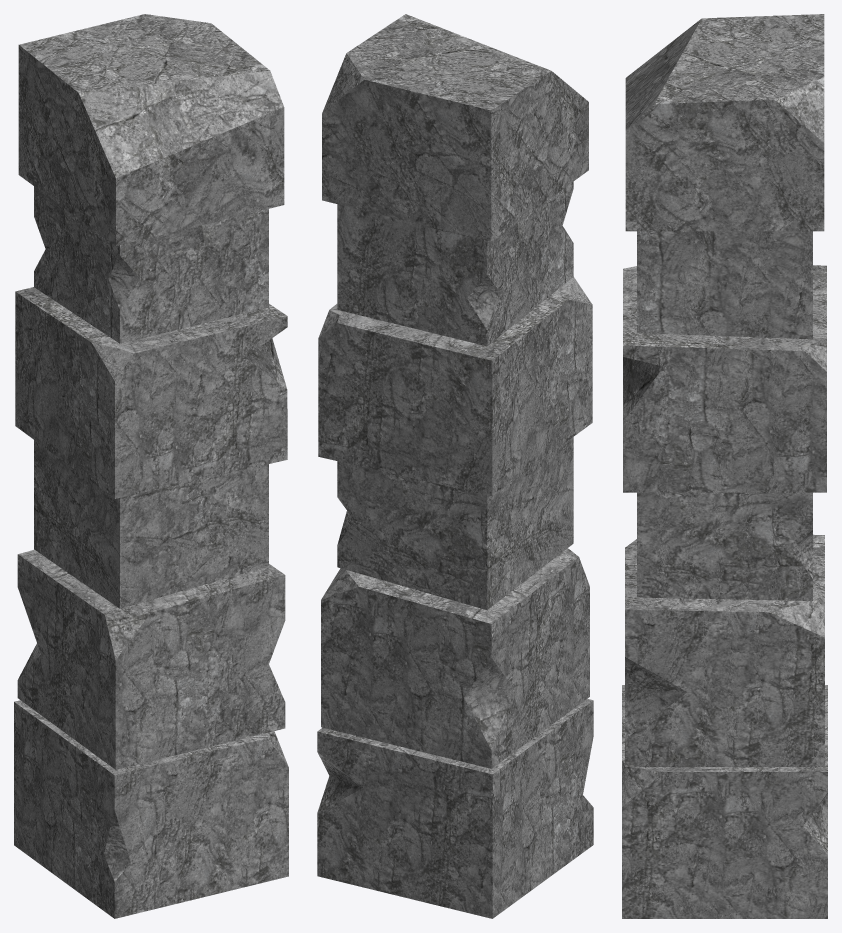
File: materials_3_pillar_4.fbx
3 views of the same model, side by side, from view 1: azimuth 30°, elevation 25°; view 2: azimuth 150°, elevation 25°; view 3: azimuth 270°, elevation 25° (orthographic). The views are drawn at different scales.
Parts seen in each view (by area): view 1: materials_3_pillar_4; view 2: materials_3_pillar_4; view 3: materials_3_pillar_4.
Part boxes in pixels (x1=…): materials_3_pillar_4: x1=14, y1=14, x2=288, y2=918; materials_3_pillar_4: x1=317, y1=14, x2=593, y2=918; materials_3_pillar_4: x1=622, y1=14, x2=827, y2=918.
Size of the model in its own units: 76.79 by 337 by 76.79.
